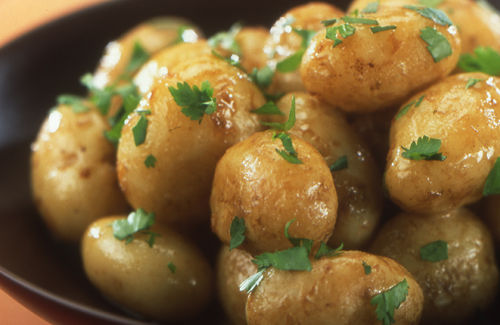boiled potatoes: (60, 14, 498, 316)
